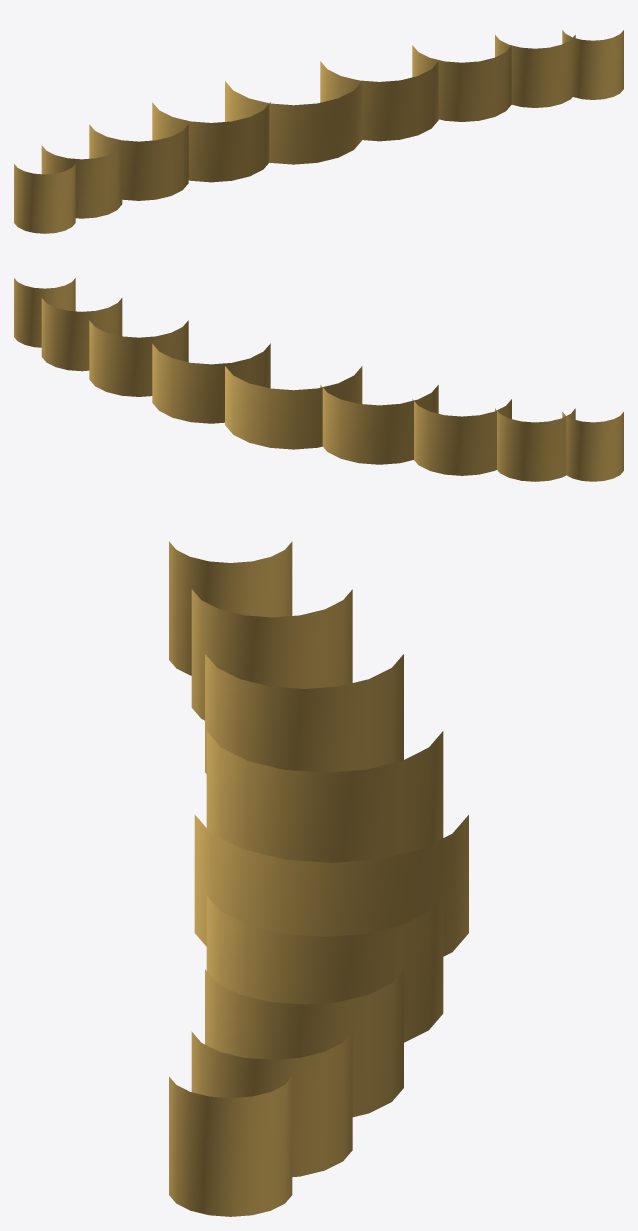
File: banana.glb
3 renders of one model, top to bottom at view 1: azimuth 30°, elevation 25°; view 2: azimuth 150°, elevation 25°; view 3: azimuth 270°, elevation 25°, orthographic. The views are drawn at different scales.
Visible parts, largest first — view 1: seg_4, seg_3, seg_5, seg_6, seg_2, seg_7, seg_0, seg_1, seg_8; view 2: seg_4, seg_3, seg_5, seg_2, seg_6, seg_1, seg_7, seg_0, seg_8; view 3: seg_3, seg_4, seg_5, seg_2, seg_8, seg_6, seg_1, seg_7, seg_0.
Boxes of the visible parts, x1,y1,x2,y2 form: seg_4: [225, 81, 362, 164]; seg_3: [152, 102, 270, 182]; seg_5: [320, 61, 438, 141]; seg_6: [412, 45, 511, 121]; seg_2: [89, 124, 188, 200]; seg_7: [495, 34, 575, 107]; seg_0: [14, 164, 75, 233]; seg_1: [41, 145, 122, 218]; seg_8: [562, 30, 623, 99]; seg_4: [225, 366, 362, 449]; seg_3: [320, 385, 438, 464]; seg_5: [152, 343, 270, 423]; seg_2: [412, 399, 511, 475]; seg_6: [89, 320, 188, 396]; seg_1: [495, 408, 575, 481]; seg_7: [41, 298, 122, 371]; seg_0: [562, 412, 623, 481]; seg_8: [14, 278, 75, 347]; seg_3: [206, 731, 443, 862]; seg_4: [194, 814, 468, 956]; seg_5: [206, 895, 443, 1042]; seg_2: [205, 654, 403, 773]; seg_8: [169, 1076, 292, 1216]; seg_6: [205, 969, 403, 1117]; seg_1: [191, 589, 352, 720]; seg_7: [191, 1031, 352, 1176]; seg_0: [169, 541, 292, 675].
Bounding box in the file's own units: 0.1699 × 0.016 × 0.0366.
